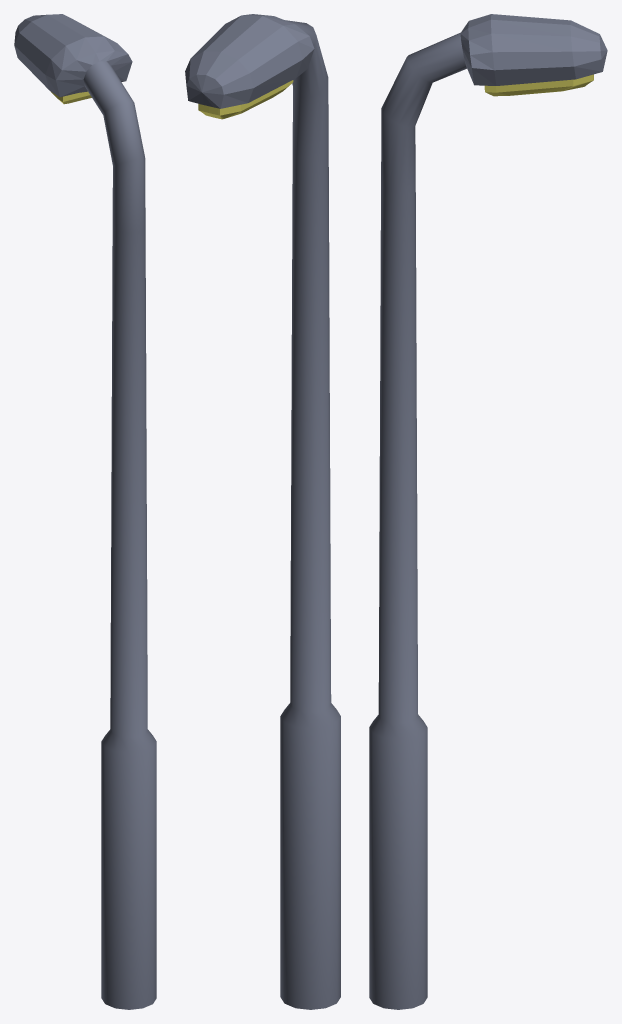
The model's file is Streetlight.FBX.
3 views of the same model, side by side, from view 1: azimuth 30°, elevation 25°; view 2: azimuth 150°, elevation 25°; view 3: azimuth 270°, elevation 25° (orthographic). The views are drawn at different scales.
Parts seen in each view (by area): view 1: Cylinder004; view 2: Cylinder004; view 3: Cylinder004.
Part boxes in pixels (<box>): Cylinder004: <box>14,14,156,1009</box>; Cylinder004: <box>185,14,340,1009</box>; Cylinder004: <box>369,14,607,1009</box>.
Size of the model in its own units: 13.38 by 155 by 34.21.
1 material, 1 textured.
